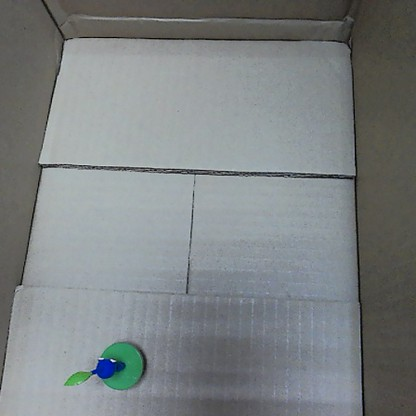leafairy: (64, 334, 150, 392)
